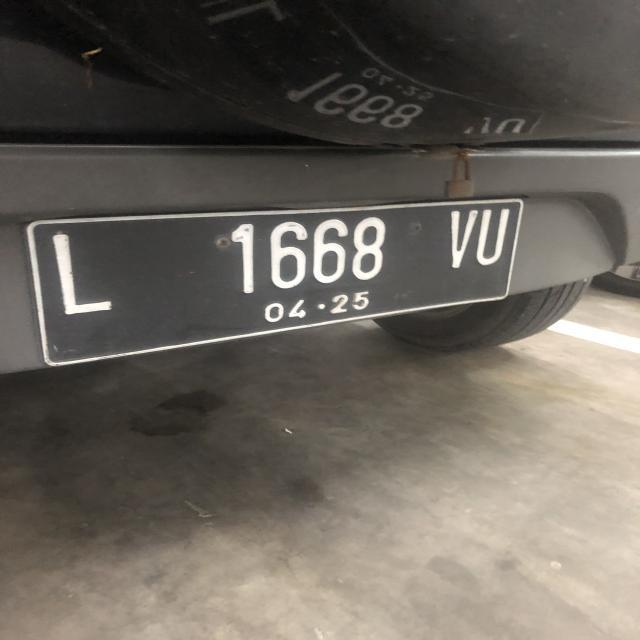1: (224, 222, 266, 300)
6: (266, 220, 314, 292), (312, 218, 350, 284)
8: (350, 218, 392, 282)
L: (47, 229, 116, 321)
U: (476, 204, 510, 268)
V: (443, 206, 478, 274)
